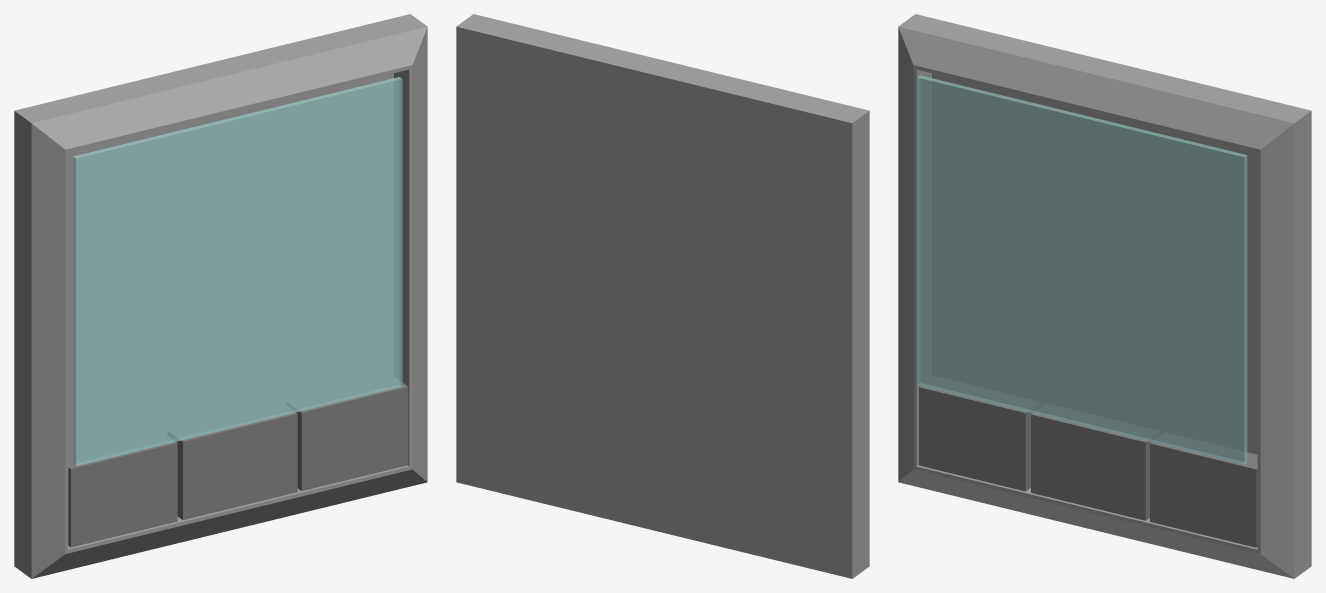
File: wallpanel.fbx
3 renders of one model, left to right at view 1: azimuth 30°, elevation 25°; view 2: azimuth 150°, elevation 25°; view 3: azimuth 330°, elevation 25°, orthographic.
Parts seen in each view (by area): view 1: polySurface1; view 2: polySurface1; view 3: polySurface1.
Part boxes in pixels (x1=…): polySurface1: x1=14, y1=14, x2=427, y2=578; polySurface1: x1=456, y1=14, x2=869, y2=578; polySurface1: x1=898, y1=14, x2=1311, y2=578.
Size of the model in its own units: 14.83 by 16.3 by 1.93.
